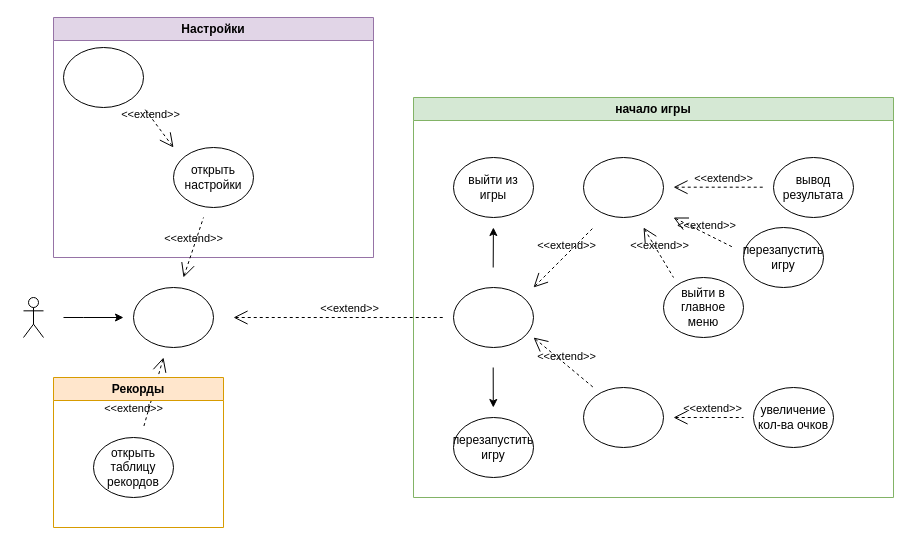
This 911x545 diagram has some shape labels left out. The shapes that lost their labels are listed below. From the top down, each one's centre as x and y in pixels, then its label:
pixel 103 77: настройка звука
pixel 623 187: поражение
pixel 33 317: player
pixel 173 317: вход в игру
pixel 493 317: начать игру
pixel 623 417: прыжок и касание платформы
